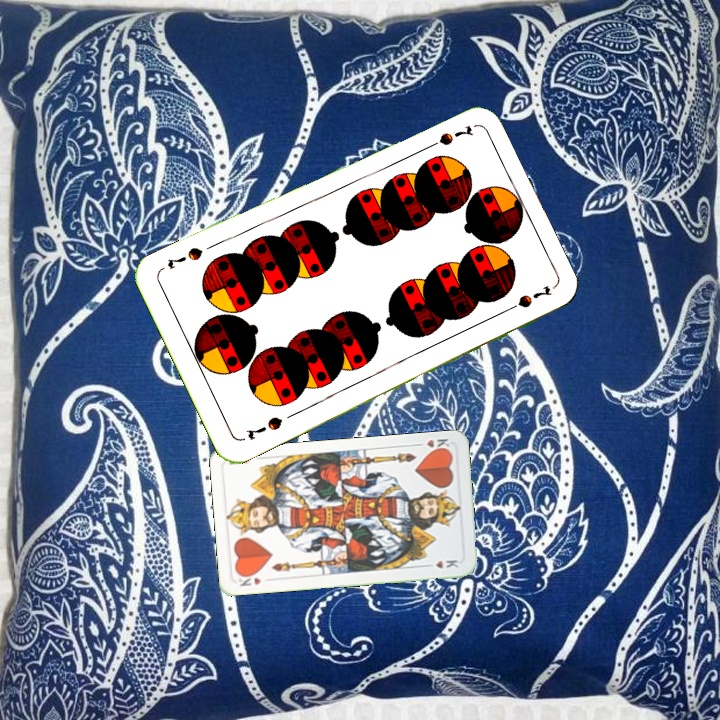HK: (412, 434, 452, 455), (234, 569, 264, 589)
S7: (420, 121, 475, 153), (241, 412, 286, 443)
